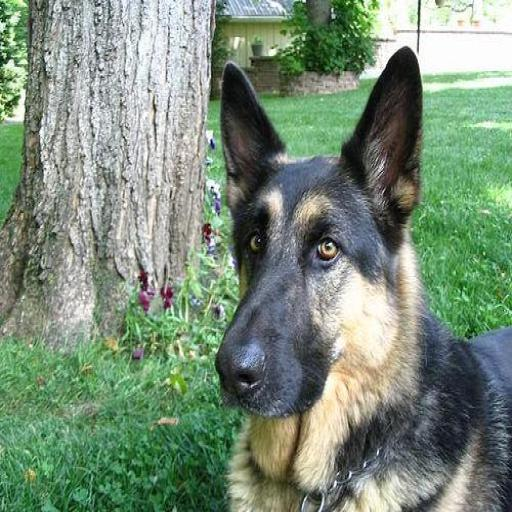dog_face: (200, 57, 416, 417)
